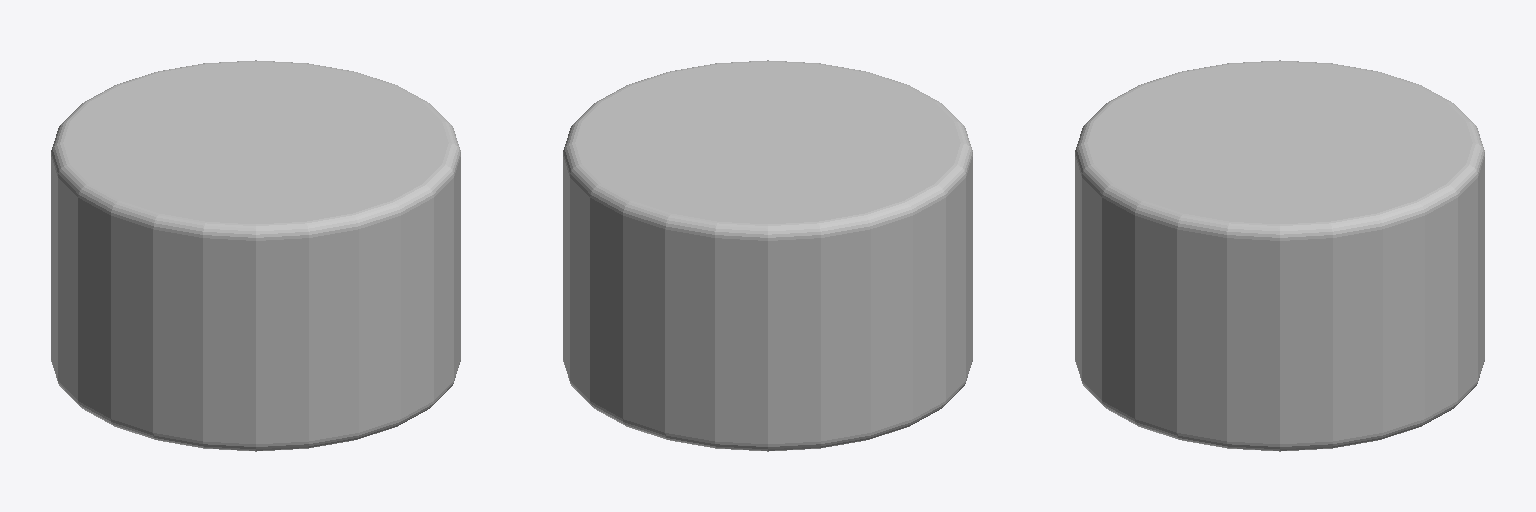
The model's file is _1251A197_Black_Oxide_Alloy_Steel_Socket_Head_Screw_05__1251A197_Black_Oxide_Alloy_Steel_Socket_Head_Screw_01__1251A197_Black_Oxide_Alloy_Steel_Socket_Head_Screw.obj.
3 views of the same model, side by side, from view 1: azimuth 30°, elevation 25°; view 2: azimuth 150°, elevation 25°; view 3: azimuth 270°, elevation 25° (orthographic).
Bounding box in the file's own units: 0.0069 × 0.0042 × 0.0069.